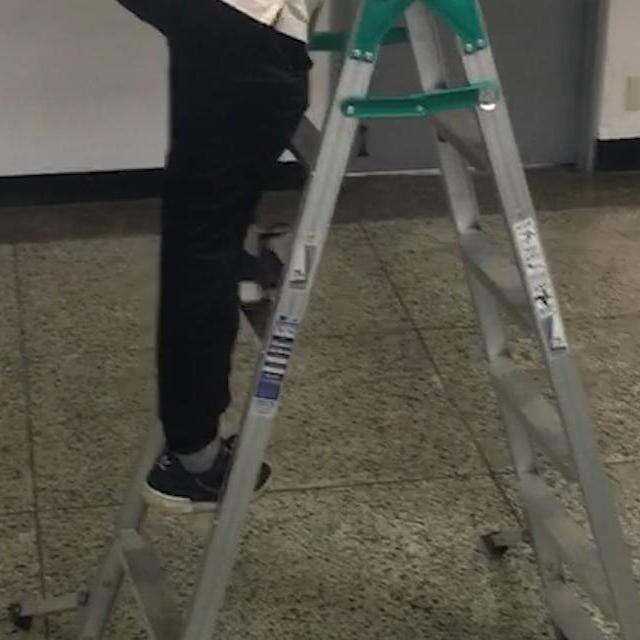Ladder: (0, 0, 640, 640)
Person: (91, 0, 517, 500)
